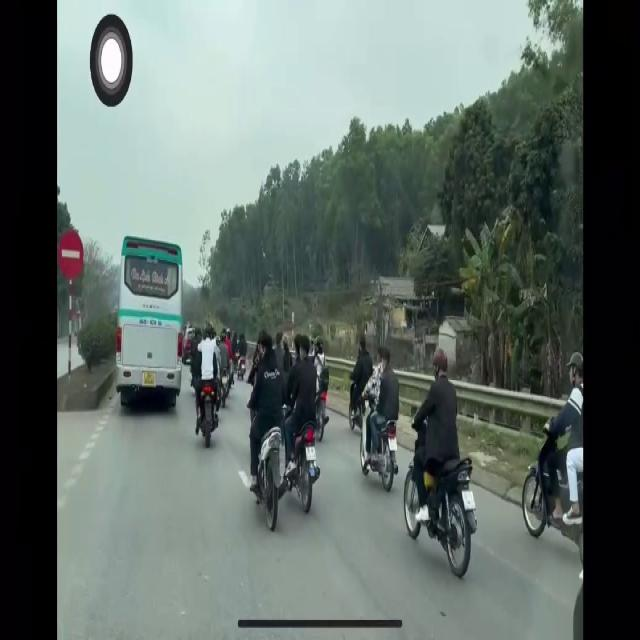helmet: (431, 342, 455, 384), (564, 349, 583, 399)
no_helmet: (297, 327, 313, 369), (381, 343, 394, 375), (356, 327, 368, 356), (260, 331, 273, 356)
